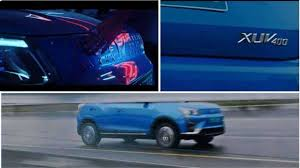XUV 400: (161, 2, 298, 89)
